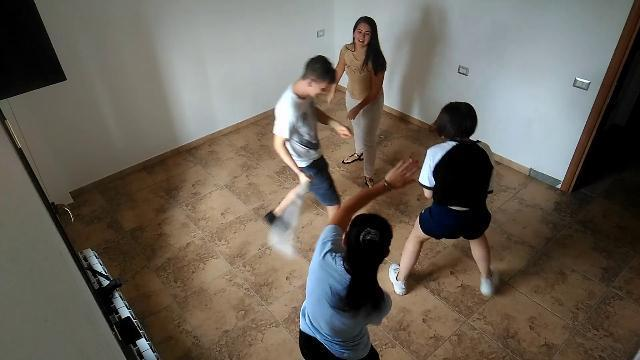non-violence: (296, 156, 426, 360), (388, 101, 498, 295), (325, 9, 389, 197)
violence: (265, 54, 353, 254)
